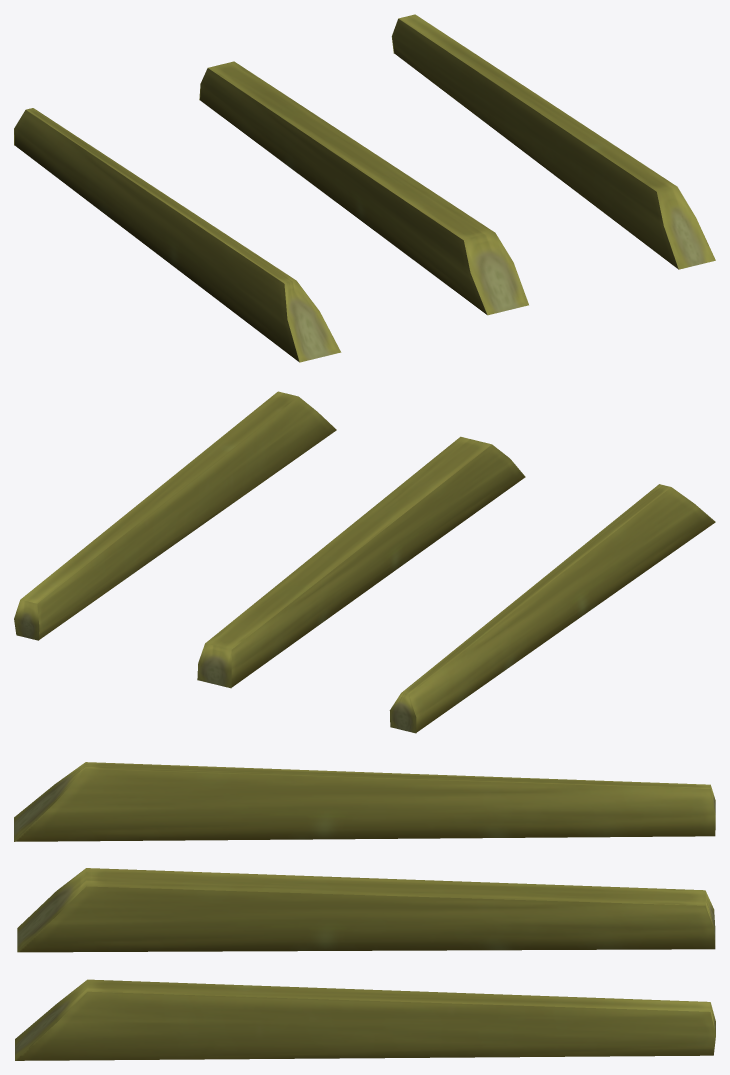
The model's file is dizuo.fbx.
The picture shows the model from 3 angles, top to bottom: view 1: azimuth 30°, elevation 25°; view 2: azimuth 150°, elevation 25°; view 3: azimuth 270°, elevation 25°; orthographic projection. The views are drawn at different scales.
Parts seen in each view (by area): view 1: dizuo; view 2: dizuo; view 3: dizuo.
Boxes of the visible parts, x1=… form: dizuo: x1=14, y1=14, x2=715, y2=362; dizuo: x1=14, y1=391, x2=715, y2=733; dizuo: x1=14, y1=762, x2=715, y2=1060.
Size of the model in its own units: 93.01 by 11.48 by 113.
